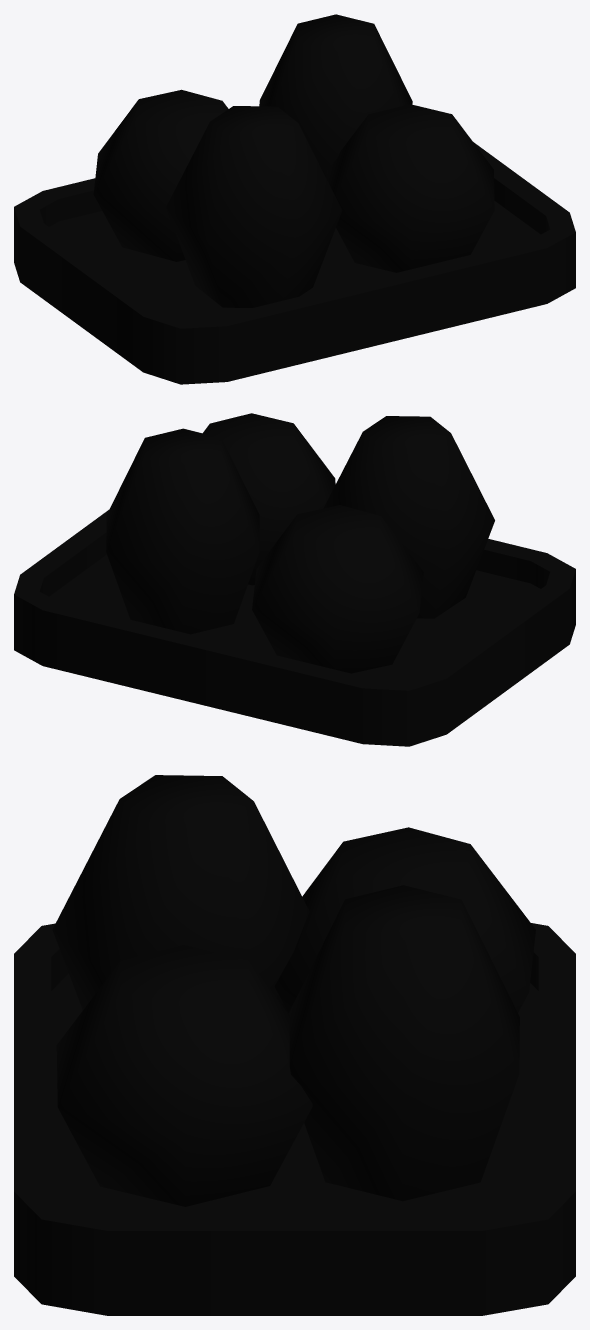
The model's file is planter.glb.
3 renders of one model, top to bottom at view 1: azimuth 30°, elevation 25°; view 2: azimuth 150°, elevation 25°; view 3: azimuth 270°, elevation 25°, orthographic. The views are drawn at different scales.
Visible parts, largest first — view 1: planter; view 2: planter; view 3: planter.
Part boxes in pixels (box(x1,y1,x2,y2)): planter: box(14, 14, 575, 384); planter: box(14, 413, 575, 746); planter: box(14, 775, 575, 1315).
Size of the model in its own units: 0.4 by 0.1771 by 0.3.
Materials: 1 (1 with a texture image).
